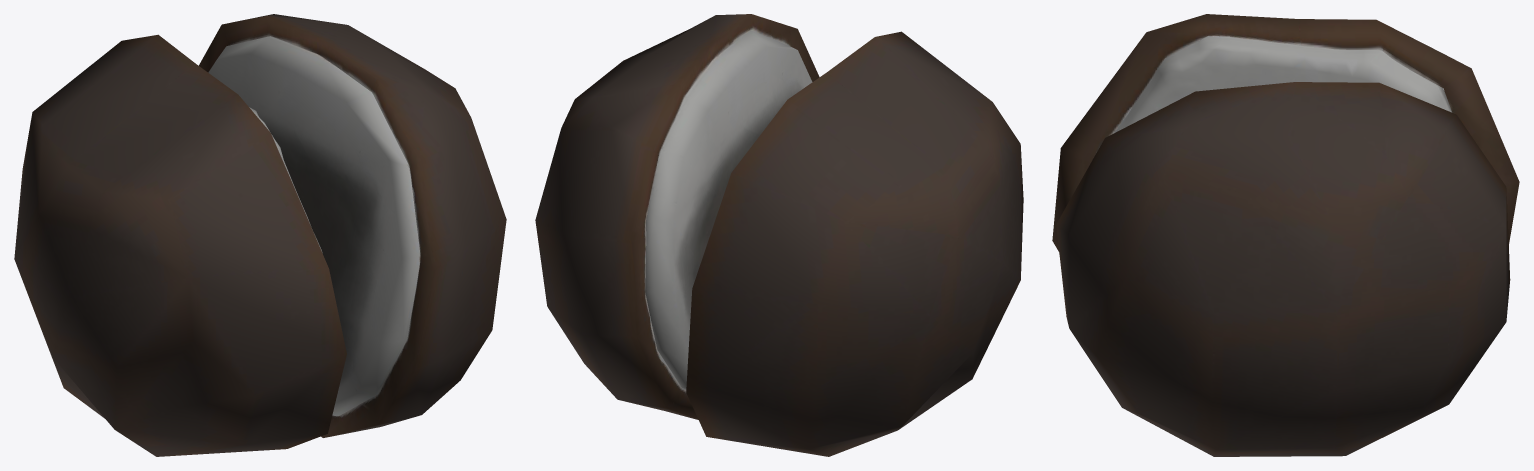
Rendered from original_glb.glb.
3 renders of one model, left to right at view 1: azimuth 30°, elevation 25°; view 2: azimuth 150°, elevation 25°; view 3: azimuth 270°, elevation 25°, orthographic. The views are drawn at different scales.
Visible parts, largest first — view 1: Split Boulder; view 2: Split Boulder; view 3: Split Boulder.
Part boxes in pixels (box(x1,y1,x2,y2)): Split Boulder: box(14, 14, 506, 456); Split Boulder: box(535, 14, 1023, 456); Split Boulder: box(1052, 14, 1519, 456).
Bounding box in the file's own units: 0.998 × 0.873 × 0.9707.
Materials: 1 (1 with a texture image).
